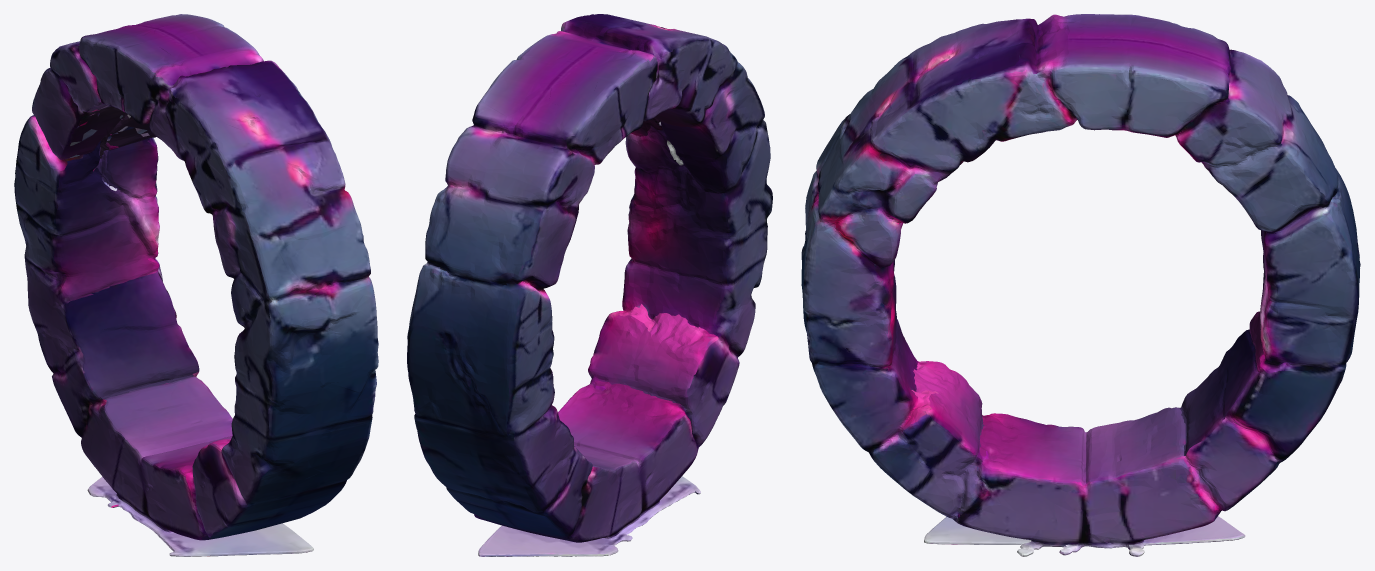
Rendered from ring-fragment-east-generated-2026-04-20T00-01-43-946Z.low.glb.
3 renders of one model, left to right at view 1: azimuth 30°, elevation 25°; view 2: azimuth 150°, elevation 25°; view 3: azimuth 270°, elevation 25°, orthographic. The views are drawn at different scales.
Visible parts, largest first — view 1: temp_mesh.ply; view 2: temp_mesh.ply; view 3: temp_mesh.ply.
Boxes of the visible parts, left/top/right/bottom form: temp_mesh.ply: left=14, top=14, right=378, bottom=556; temp_mesh.ply: left=407, top=14, right=772, bottom=556; temp_mesh.ply: left=801, top=14, right=1360, bottom=556.
Size of the model in its own units: 0.5942 by 1.89 by 1.97.
Materials: 1 (1 with a texture image).
